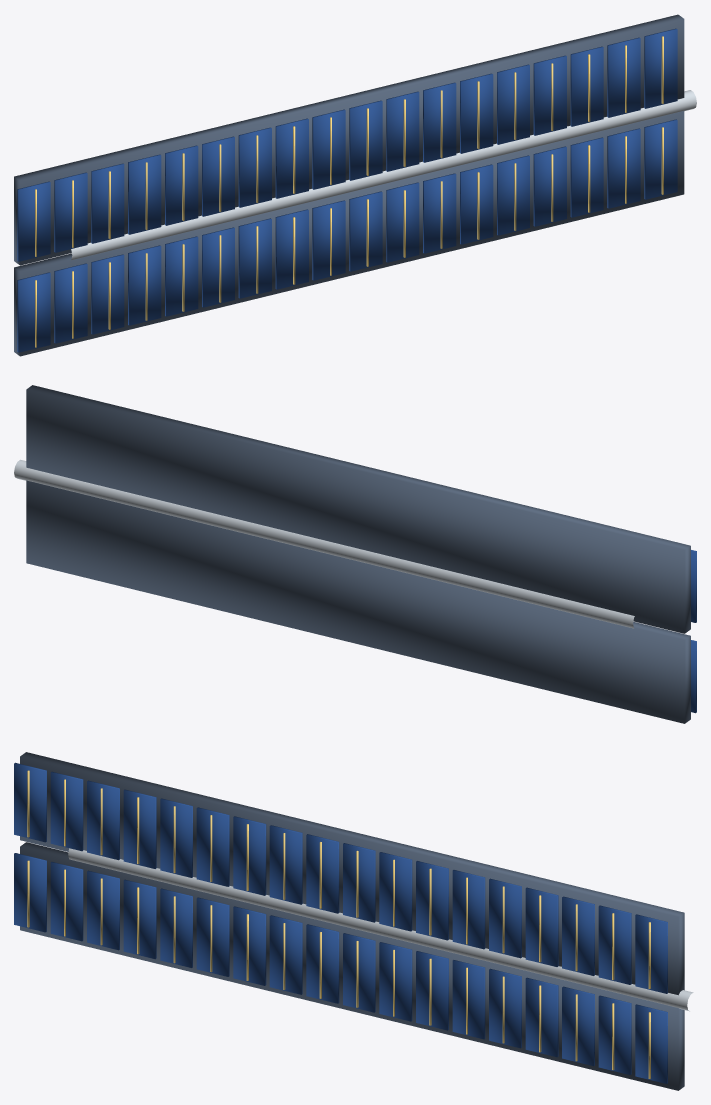
The model's file is 07_L85_StationSolarWingModule.glb.
3 views of the same model, one above another, from view 1: azimuth 30°, elevation 25°; view 2: azimuth 150°, elevation 25°; view 3: azimuth 330°, elevation 25° (orthographic).
Parts seen in each view (by area): view 1: L85_StationSolarWingModule_Part_0001, L85_StationSolarWingModule_Part_0002, L85_StationSolarWingModule_Part_0000, L85_StationSolarWingModule_Part_0003, L85_StationSolarWingModule_Part_0007, L85_StationSolarWingModule_Part_0004, L85_StationSolarWingModule_Part_0005, L85_StationSolarWingModule_Part_0006; view 2: L85_StationSolarWingModule_Part_0000, L85_StationSolarWingModule_Part_0007; view 3: L85_StationSolarWingModule_Part_0001, L85_StationSolarWingModule_Part_0002, L85_StationSolarWingModule_Part_0000, L85_StationSolarWingModule_Part_0003, L85_StationSolarWingModule_Part_0007, L85_StationSolarWingModule_Part_0005, L85_StationSolarWingModule_Part_0004, L85_StationSolarWingModule_Part_0006.
Boxes of the visible parts, x1=… form: L85_StationSolarWingModule_Part_0001: x1=17, y1=155, x2=529, y2=352; L85_StationSolarWingModule_Part_0002: x1=17, y1=100, x2=677, y2=261; L85_StationSolarWingModule_Part_0000: x1=14, y1=14, x2=684, y2=356; L85_StationSolarWingModule_Part_0003: x1=386, y1=28, x2=677, y2=171; L85_StationSolarWingModule_Part_0007: x1=71, y1=90, x2=696, y2=260; L85_StationSolarWingModule_Part_0004: x1=35, y1=163, x2=516, y2=347; L85_StationSolarWingModule_Part_0005: x1=35, y1=108, x2=663, y2=256; L85_StationSolarWingModule_Part_0006: x1=403, y1=36, x2=663, y2=166; L85_StationSolarWingModule_Part_0000: x1=26, y1=385, x2=690, y2=723; L85_StationSolarWingModule_Part_0007: x1=14, y1=459, x2=634, y2=628; L85_StationSolarWingModule_Part_0001: x1=14, y1=853, x2=521, y2=1048; L85_StationSolarWingModule_Part_0002: x1=14, y1=762, x2=667, y2=1083; L85_StationSolarWingModule_Part_0000: x1=20, y1=752, x2=684, y2=1090; L85_StationSolarWingModule_Part_0003: x1=379, y1=852, x2=667, y2=993; L85_StationSolarWingModule_Part_0007: x1=68, y1=848, x2=693, y2=1011; L85_StationSolarWingModule_Part_0005: x1=27, y1=770, x2=650, y2=1078; L85_StationSolarWingModule_Part_0004: x1=27, y1=860, x2=504, y2=1043; L85_StationSolarWingModule_Part_0006: x1=393, y1=859, x2=650, y2=988.
Bounding box in the file's own units: 4.45 × 1.1 × 0.1375.
